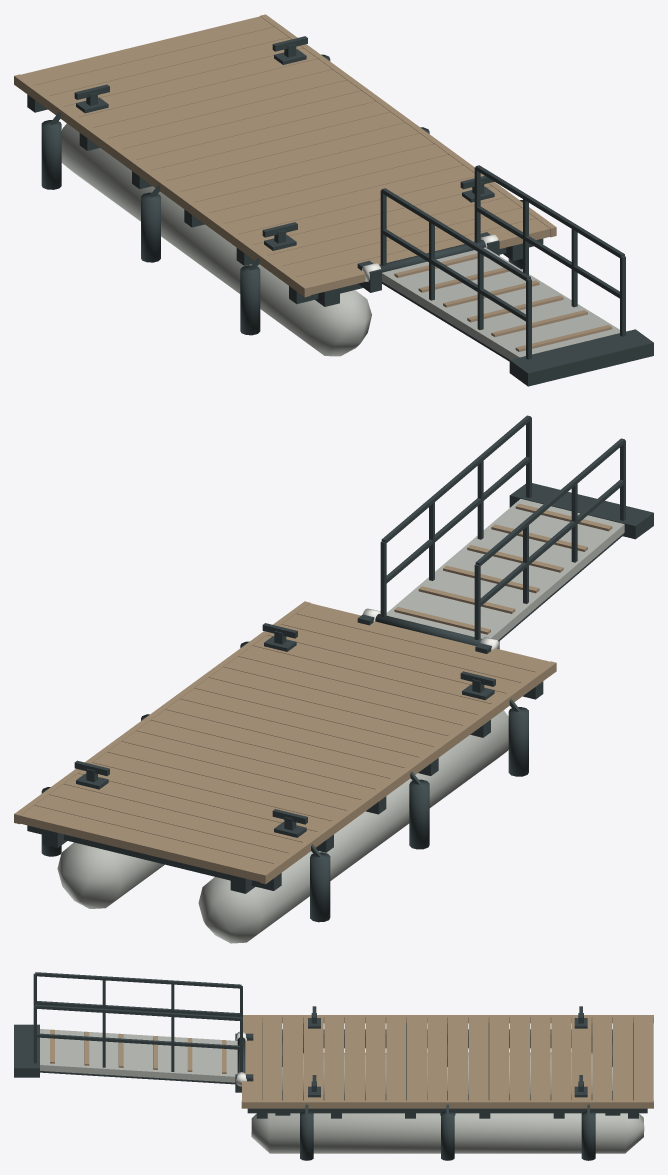
The model's file is ENV_FloatingPontoon_LOD1.fbx.
3 views of the same model, one above another, from view 1: azimuth 30°, elevation 25°; view 2: azimuth 150°, elevation 25°; view 3: azimuth 270°, elevation 25° (orthographic). The views are drawn at different scales.
Visible parts, largest first — view 1: ENV_FloatingPontoon_Root_Visual, GangwayHinge_Visual; view 2: ENV_FloatingPontoon_Root_Visual, GangwayHinge_Visual; view 3: ENV_FloatingPontoon_Root_Visual, GangwayHinge_Visual.
Part boxes in pixels (left/top/right/bottom): ENV_FloatingPontoon_Root_Visual: left=14, top=14, right=653, bottom=386; GangwayHinge_Visual: left=380, top=165, right=625, bottom=361; ENV_FloatingPontoon_Root_Visual: left=14, top=483, right=653, bottom=943; GangwayHinge_Visual: left=380, top=415, right=625, bottom=640; ENV_FloatingPontoon_Root_Visual: left=14, top=1006, right=653, bottom=1160; GangwayHinge_Visual: left=33, top=972, right=242, bottom=1084.
Bounding box in the file's own units: 341 × 221 × 931.
